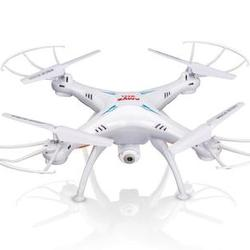drone: (2, 41, 249, 201)
